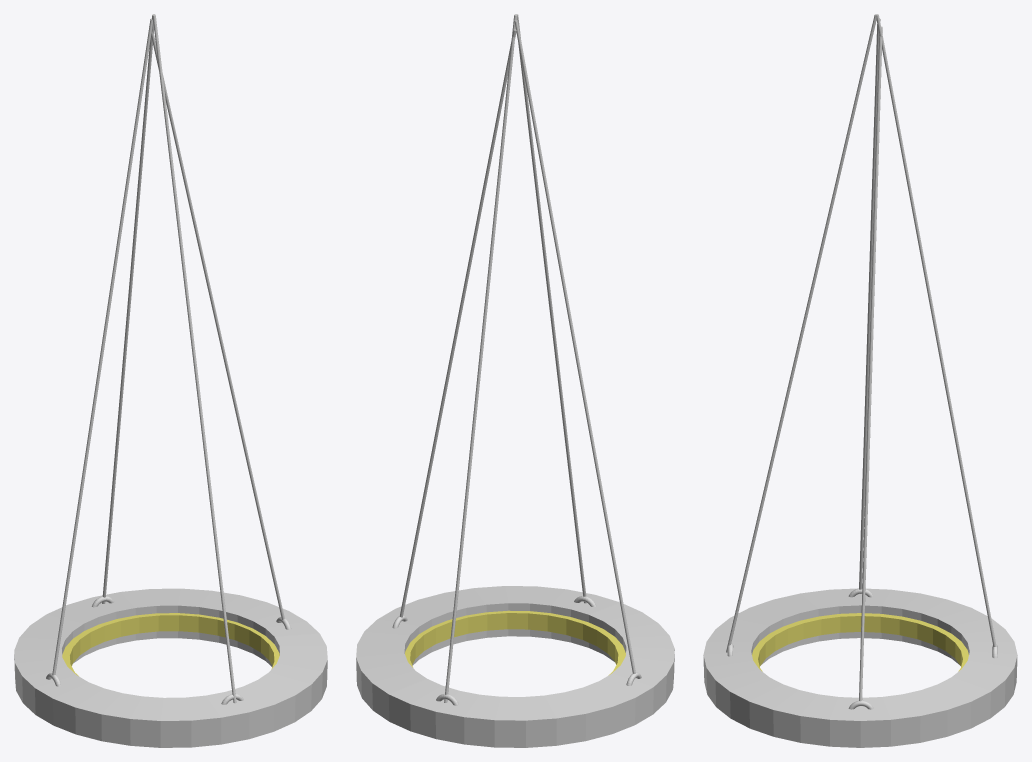
File: hanginglight.glb
3 views of the same model, side by side, from view 1: azimuth 30°, elevation 25°; view 2: azimuth 150°, elevation 25°; view 3: azimuth 270°, elevation 25° (orthographic).
Parts seen in each view (by area): view 1: Torus, Torus.005, Cylinder.001, Cylinder, Cylinder.002, Cylinder.003; view 2: Torus, Torus.005, Cylinder.002, Cylinder, Cylinder.003, Cylinder.001; view 3: Torus, Torus.005, Cylinder.003, Cylinder.001, Cylinder.002, Cylinder.
Part boxes in pixels (x1=…): Torus: x1=14, y1=588, x2=327, y2=747; Torus.005: x1=62, y1=613, x2=279, y2=676; Cylinder.001: x1=152, y1=14, x2=236, y2=703; Cylinder: x1=52, y1=18, x2=152, y2=675; Cylinder.002: x1=102, y1=14, x2=155, y2=603; Cylinder.003: x1=149, y1=26, x2=284, y2=619; Torus: x1=356, y1=586, x2=674, y2=747; Torus.005: x1=405, y1=610, x2=625, y2=675; Cylinder.002: x1=444, y1=14, x2=517, y2=702; Cylinder: x1=514, y1=20, x2=635, y2=673; Cylinder.003: x1=399, y1=29, x2=516, y2=617; Cylinder.001: x1=515, y1=14, x2=586, y2=603; Torus: x1=703, y1=588, x2=1017, y2=747; Torus.005: x1=752, y1=613, x2=968, y2=671; Cylinder.003: x1=859, y1=26, x2=882, y2=701; Cylinder.001: x1=726, y1=14, x2=877, y2=652; Cylinder.002: x1=876, y1=14, x2=996, y2=646; Cylinder: x1=859, y1=18, x2=880, y2=589.
Bounding box in the file's own units: 2.51 × 5.87 × 2.51.
